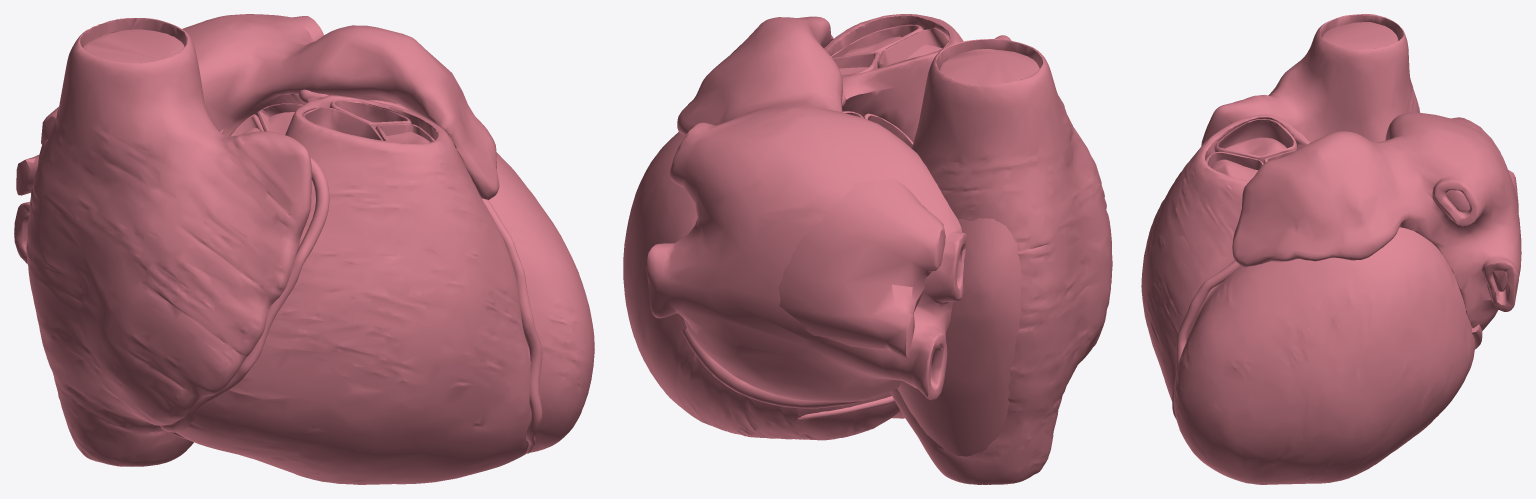
The model's file is male-cardiovascular.glb.
3 renders of one model, left to right at view 1: azimuth 30°, elevation 25°; view 2: azimuth 150°, elevation 25°; view 3: azimuth 270°, elevation 25°, orthographic. The views are drawn at different scales.
Visible parts, largest first — view 1: FJ2428, FJ2439, FJ2438, FJ2723, FJ2631, FJ2424, FJ2434, FJ2427, FJ2425; view 2: FJ2438, FJ2439, FJ2428, FJ2425, FJ2424, FJ2655, FJ2434, FJ2417, FJ2423, FJ2427, FJ2723; view 3: FJ2428, FJ2438, FJ2439, FJ2434, FJ2424, FJ2423, FJ2631, FJ2425, FJ2417.
Part boxes in pixels (<box>): FJ2428: <box>171,94,594,484</box>; FJ2439: <box>26,18,311,466</box>; FJ2438: <box>14,14,499,263</box>; FJ2723: <box>160,157,329,439</box>; FJ2631: <box>369,100,542,453</box>; FJ2424: <box>83,29,184,63</box>; FJ2434: <box>302,107,382,140</box>; FJ2427: <box>330,100,411,128</box>; FJ2425: <box>16,106,59,195</box>; FJ2438: <box>646,16,967,402</box>; FJ2439: <box>890,35,1112,484</box>; FJ2428: <box>623,14,963,440</box>; FJ2425: <box>778,178,945,357</box>; FJ2424: <box>897,48,1039,456</box>; FJ2655: <box>681,328,863,408</box>; FJ2434: <box>877,28,949,68</box>; FJ2417: <box>831,24,923,58</box>; FJ2423: <box>839,36,942,74</box>; FJ2427: <box>833,52,879,75</box>; FJ2723: <box>796,396,894,421</box>; FJ2428: <box>1141,114,1475,484</box>; FJ2438: <box>1232,112,1521,330</box>; FJ2439: <box>1201,14,1420,145</box>; FJ2434: <box>1215,118,1297,163</box>; FJ2424: <box>1322,22,1398,49</box>; FJ2423: <box>1211,137,1286,180</box>; FJ2631: <box>1172,260,1240,419</box>; FJ2425: <box>1446,117,1518,291</box>; FJ2417: <box>1205,151,1263,169</box>.
Size of the model in its own units: 0.1154 by 0.1053 by 0.1064.
